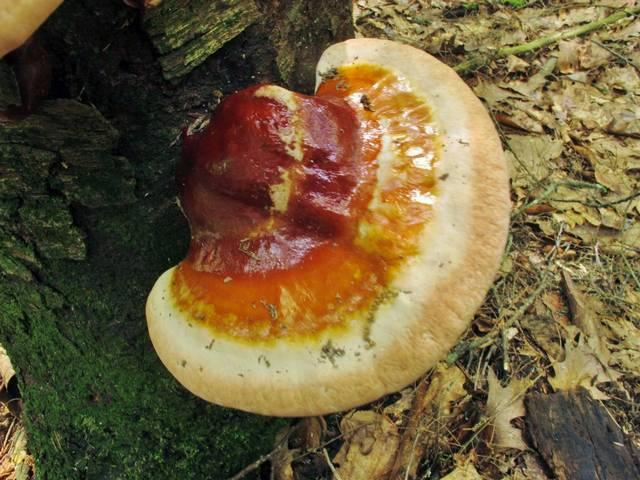Non-edible Mushroom: (143, 35, 512, 418)
